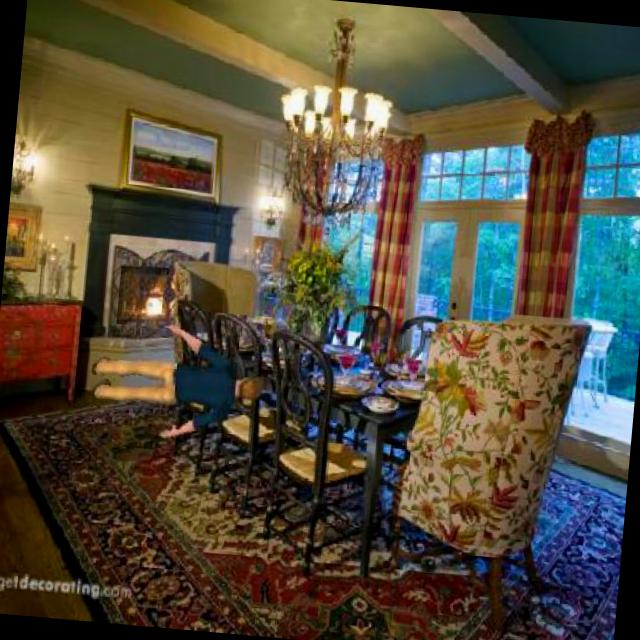Person: (84, 312, 276, 449)
